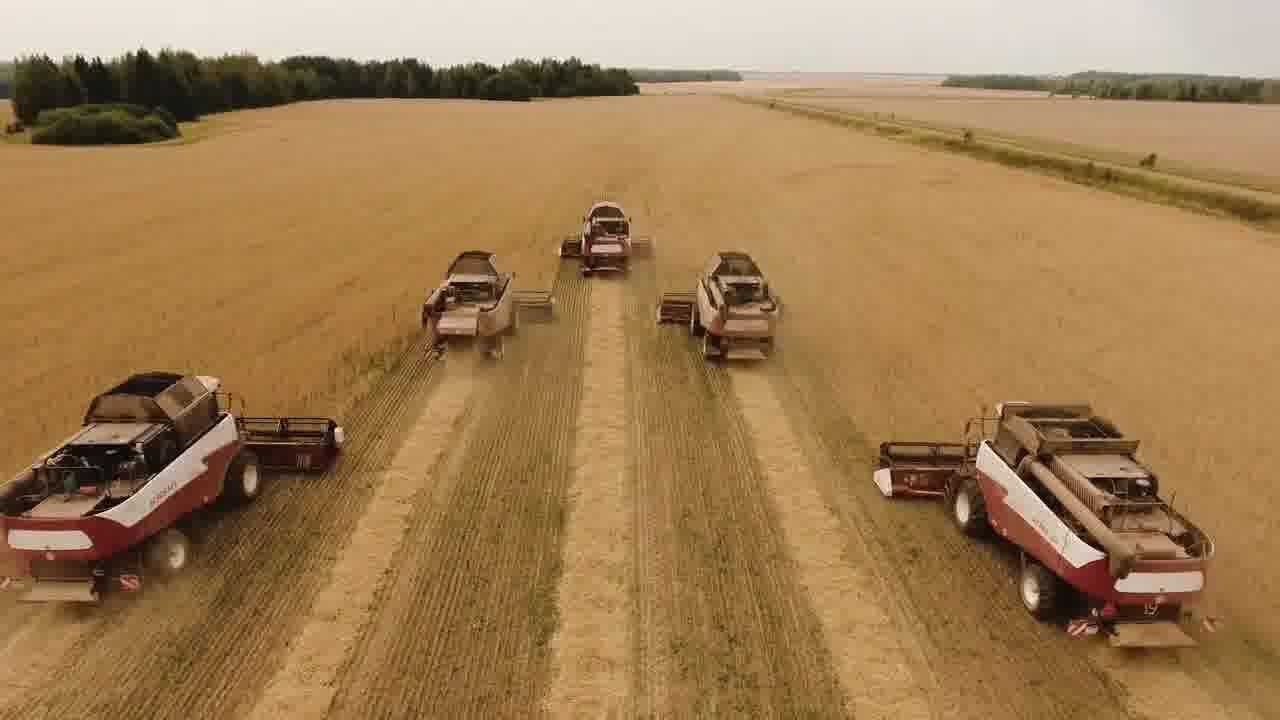combine harvester: (868, 385, 1228, 649), (0, 366, 351, 616), (654, 243, 789, 365), (418, 246, 554, 367), (558, 195, 654, 279)
